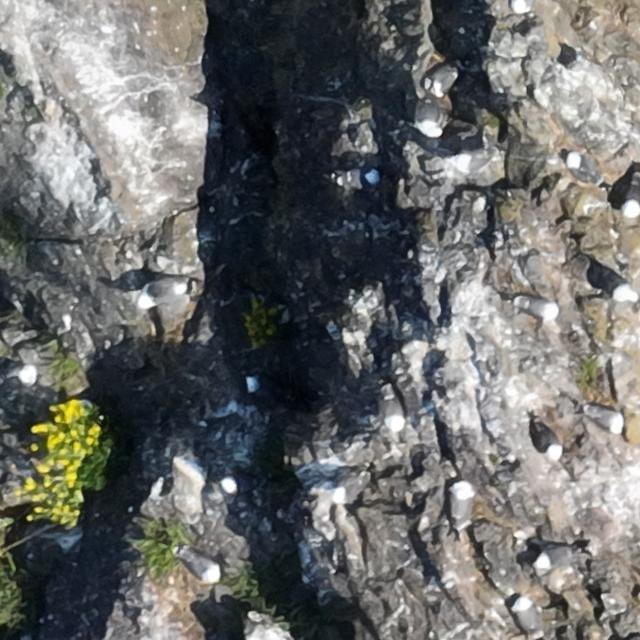umineko: (375, 378, 409, 437), (412, 91, 448, 145), (331, 468, 379, 508), (562, 149, 606, 185), (1, 365, 38, 396), (140, 281, 185, 304), (183, 553, 219, 580), (536, 424, 563, 459), (586, 407, 623, 431), (621, 174, 639, 221), (450, 485, 470, 527), (536, 546, 574, 568), (514, 600, 538, 634), (518, 298, 558, 318), (244, 377, 278, 399), (362, 168, 386, 194), (223, 475, 258, 492), (509, 0, 530, 12)
